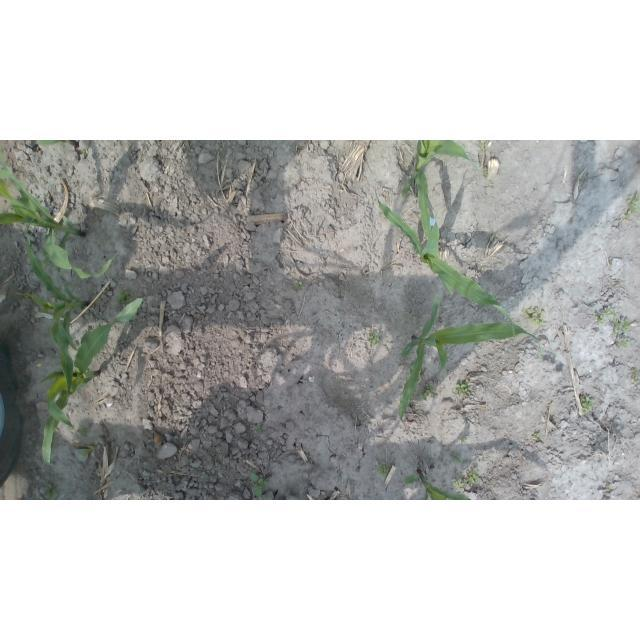Maize: (373, 186, 517, 345), (398, 297, 543, 418), (40, 299, 145, 465), (0, 145, 122, 279), (19, 221, 91, 403), (402, 140, 483, 238), (402, 466, 468, 500), (35, 140, 79, 150)
Weeds: (613, 316, 632, 348), (249, 472, 269, 500), (522, 305, 545, 328), (417, 383, 439, 402), (624, 193, 640, 219), (115, 288, 133, 308), (455, 379, 473, 398), (43, 483, 59, 500), (451, 475, 465, 493), (465, 468, 479, 486), (579, 395, 593, 413), (376, 463, 390, 477), (369, 331, 382, 345), (452, 452, 465, 464), (595, 312, 605, 324), (631, 368, 639, 382), (292, 279, 303, 289), (605, 307, 616, 317), (77, 427, 89, 436), (480, 167, 489, 178), (40, 257, 52, 265), (255, 426, 265, 435), (460, 436, 469, 445), (41, 248, 49, 257), (80, 148, 88, 156), (533, 433, 541, 440), (25, 292, 32, 300), (43, 192, 50, 198), (607, 486, 613, 491)
